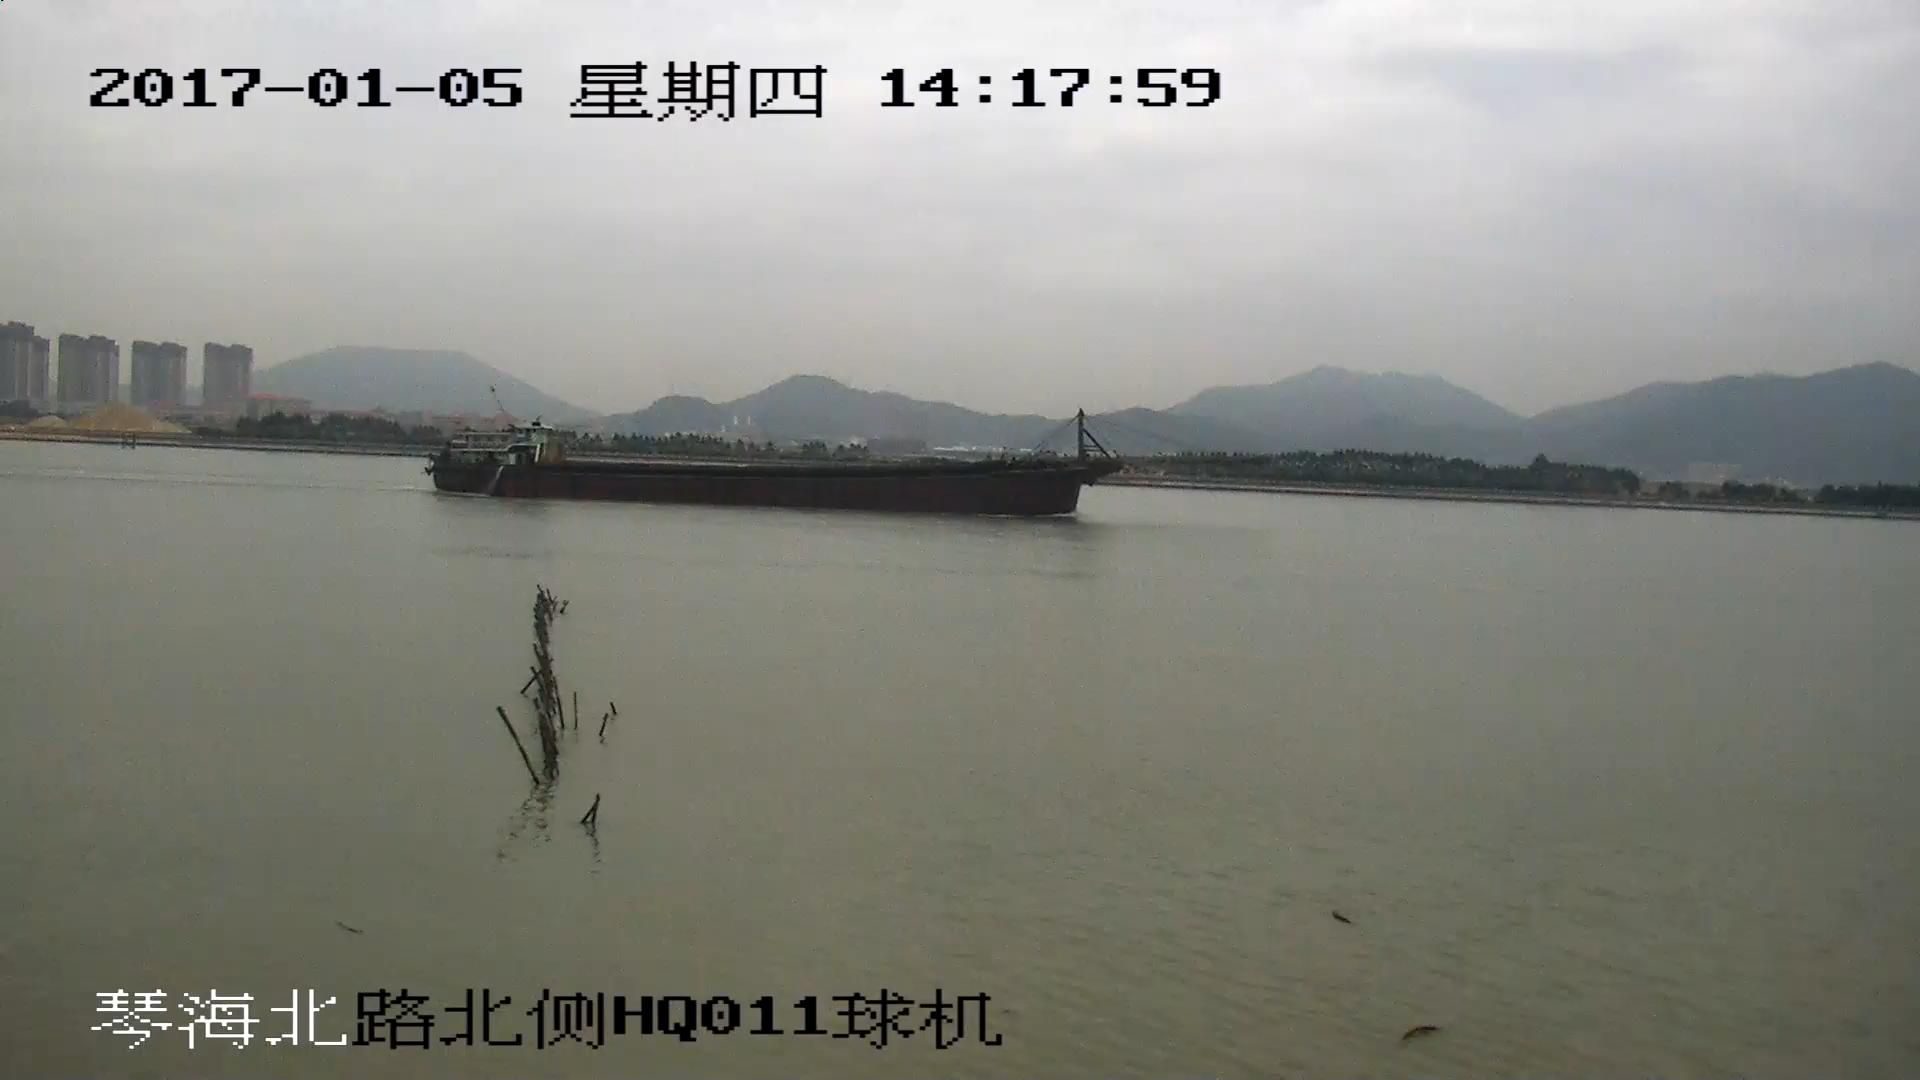bulk cargo carrier: (429, 411, 1179, 515)
